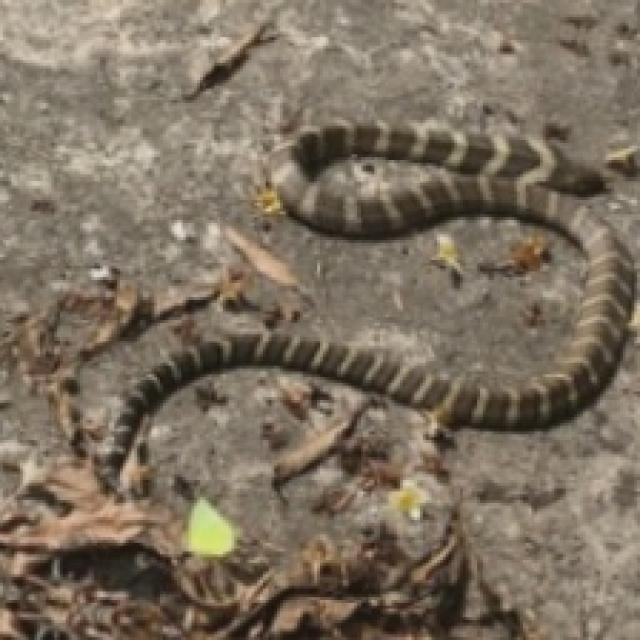king cobra: (103, 126, 631, 483)
